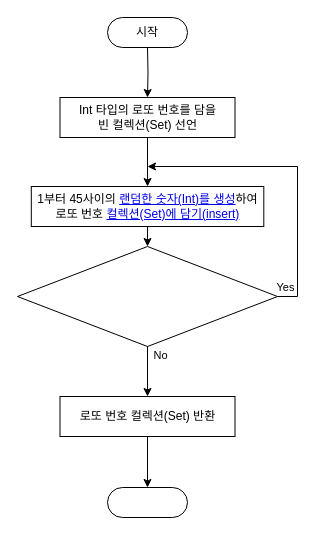
This 323x535 diagram has some shape labels left out. Each missing label, with the centre of its shape:
로또 번호 컬렉션(Set)의 길이(count) 가 6보다 작은 가?: (147,296)
종료: (147,502)
